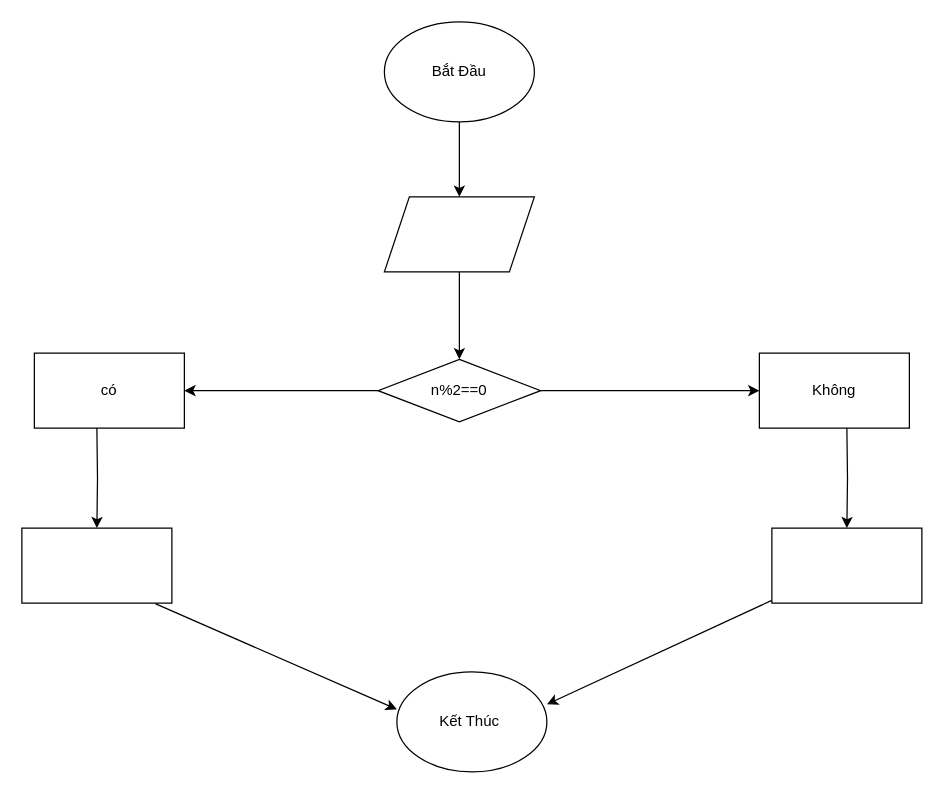
Some shapes in this 944 by 794 pixel diagram are drawn without their labels. Here are the shapes that lost their labels. From the top down, the centre of each, then its label:
point 458,234: Nhập n
point 96,565: Số Chắn
point 846,565: Số Lẻ
